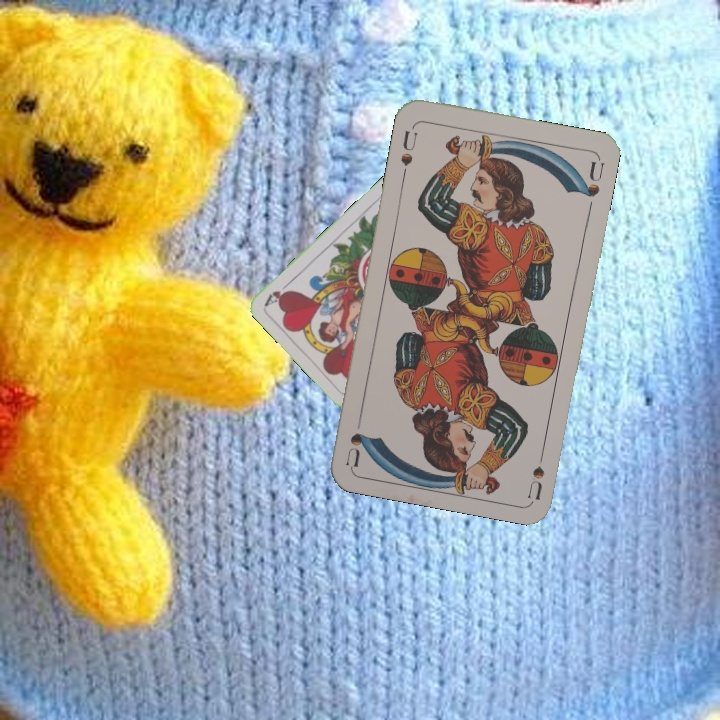SU: (524, 441, 548, 501), (396, 122, 420, 181)
